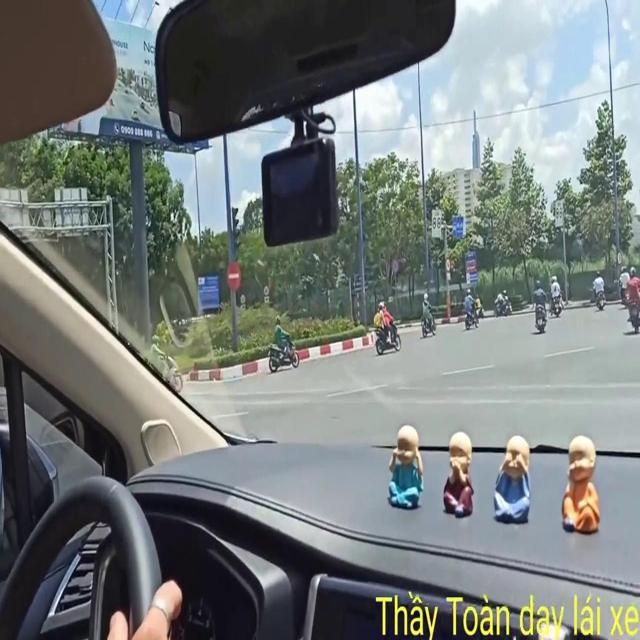Cấm các phương tiện hoạt động trong khung giờ cố định: (552, 192, 567, 226), (431, 204, 444, 242)
Cấm dừng - Cấm đỗ: (390, 256, 401, 273)
Cấm đi ngược chiều: (219, 253, 241, 293)
Khác: (190, 268, 224, 316), (465, 249, 479, 285), (349, 270, 367, 294)
Làn đường cho từng xe: (450, 212, 465, 240)
